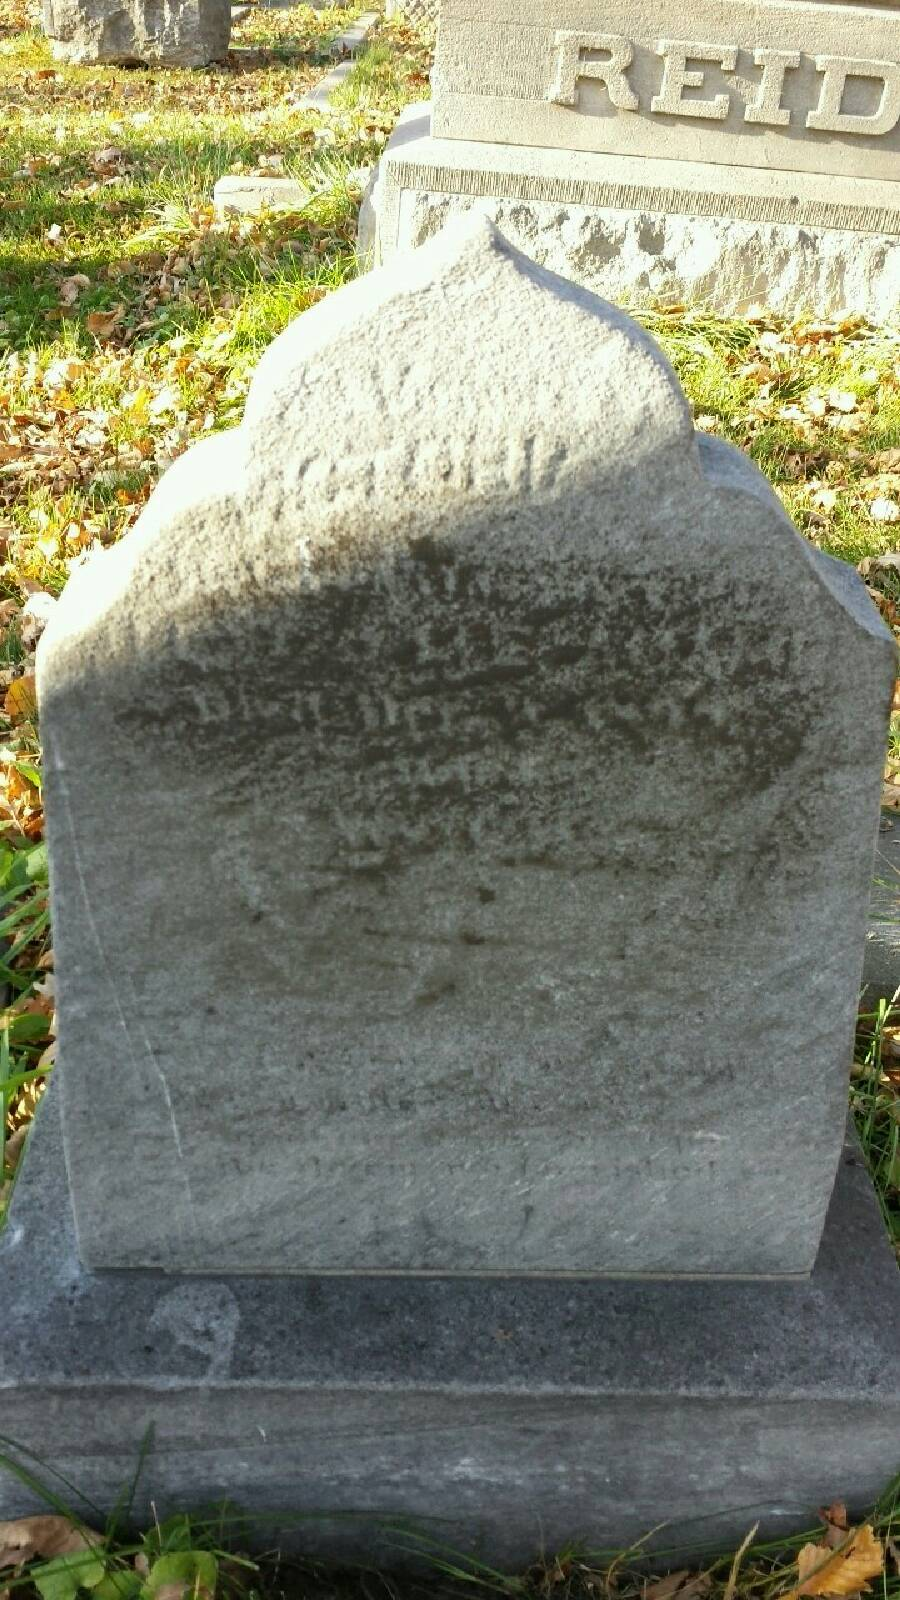upright: (0, 196, 900, 1543)
